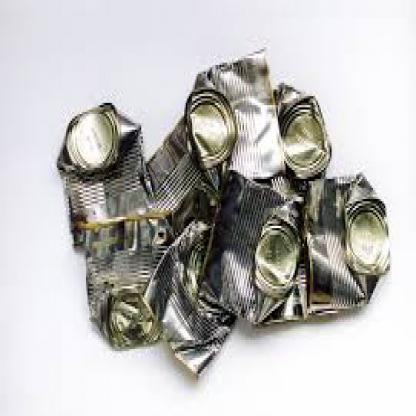METAL: (198, 166, 302, 322), (140, 217, 233, 378), (182, 45, 286, 181), (55, 101, 146, 248), (301, 174, 390, 316), (75, 222, 161, 346), (140, 116, 213, 224), (272, 78, 330, 177)
